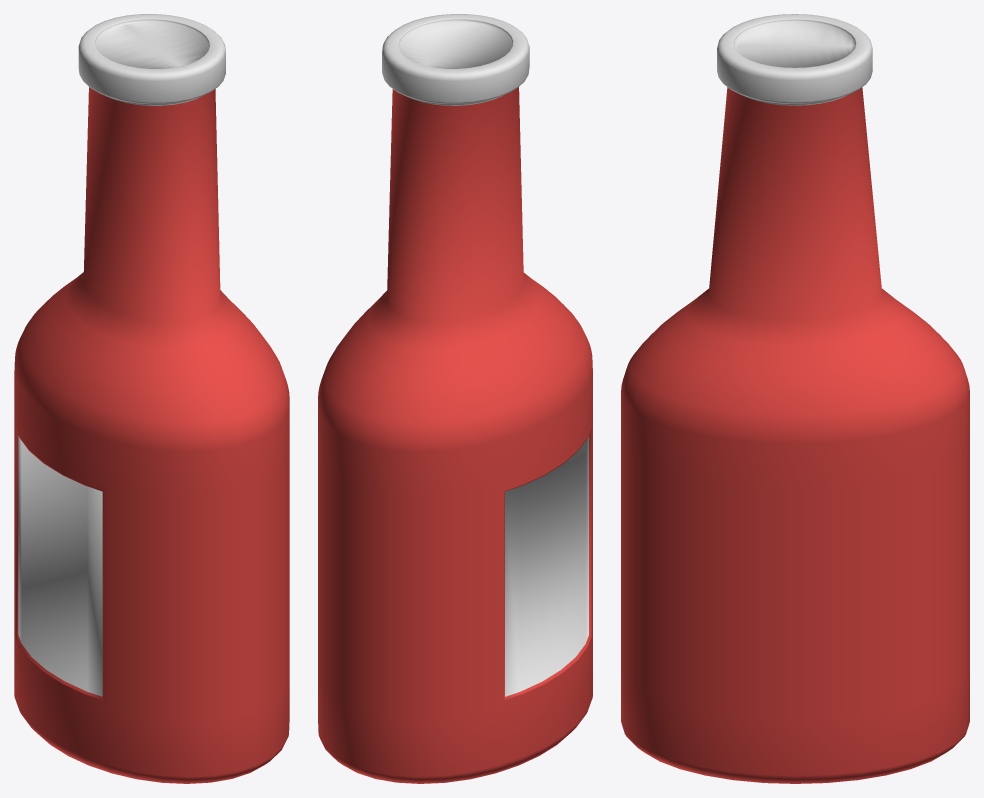
The model's file is ketchup 1.fbx.
The picture shows the model from 3 angles, left to right: view 1: azimuth 30°, elevation 25°; view 2: azimuth 150°, elevation 25°; view 3: azimuth 270°, elevation 25°; orthographic projection. The views are drawn at different scales.
Visible parts, largest first — view 1: Circle; view 2: Circle; view 3: Circle.
Part boxes in pixels (<box>): Circle: <box>14,14,289,783</box>; Circle: <box>318,14,592,783</box>; Circle: <box>621,14,969,783</box>.
Size of the model in its own units: 8.46 by 25.26 by 11.56.
